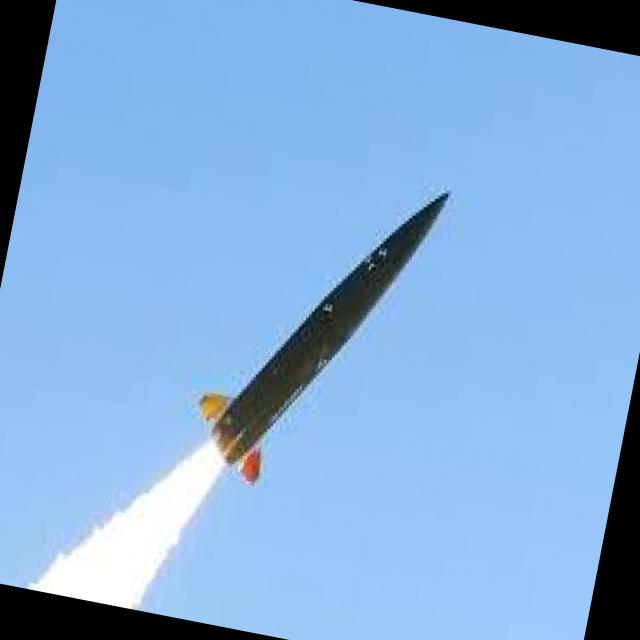rocket: (141, 143, 454, 587)
